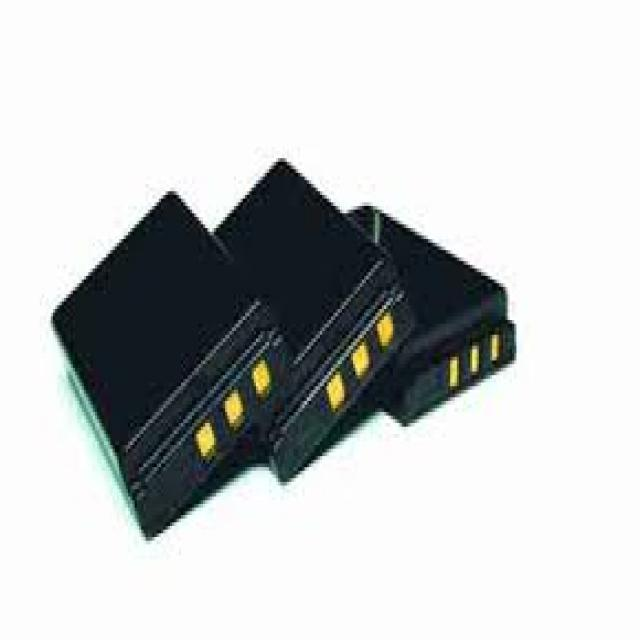battery: (49, 191, 284, 542), (214, 154, 414, 486), (334, 202, 520, 428)
